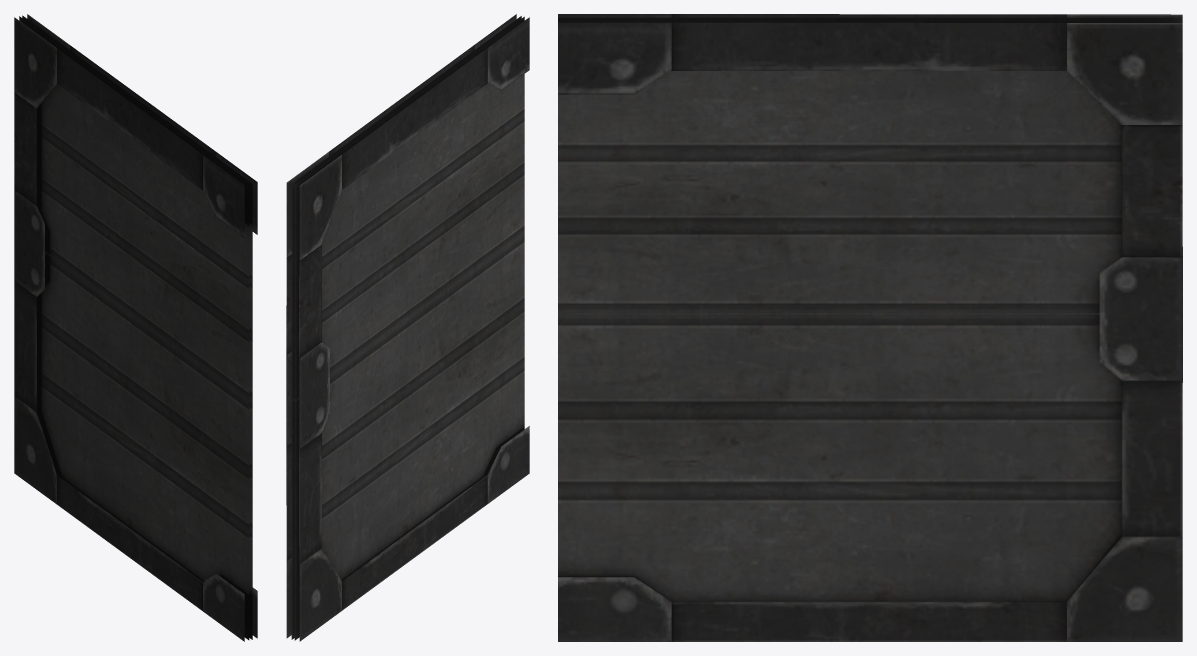
Rendered from p6_metal_panel_railing_32_lod1.glb.
The picture shows the model from 3 angles, left to right: view 1: azimuth 30°, elevation 25°; view 2: azimuth 150°, elevation 25°; view 3: azimuth 270°, elevation 25°; orthographic projection. The views are drawn at different scales.
Visible parts, largest first — view 1: surf0; view 2: surf0; view 3: surf0.
Boxes of the visible parts, x1,y1,x2,y2 form: surf0: [14, 14, 257, 641]; surf0: [286, 14, 529, 641]; surf0: [558, 14, 1182, 641].
Bounding box in the file's own units: 1.04 × 35.03 × 32.02.
